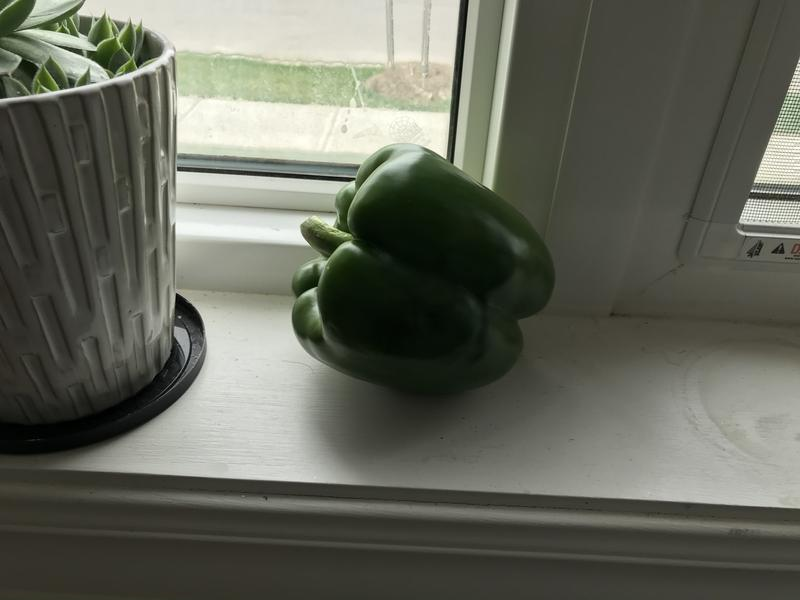green_pepper: (279, 128, 560, 405)
